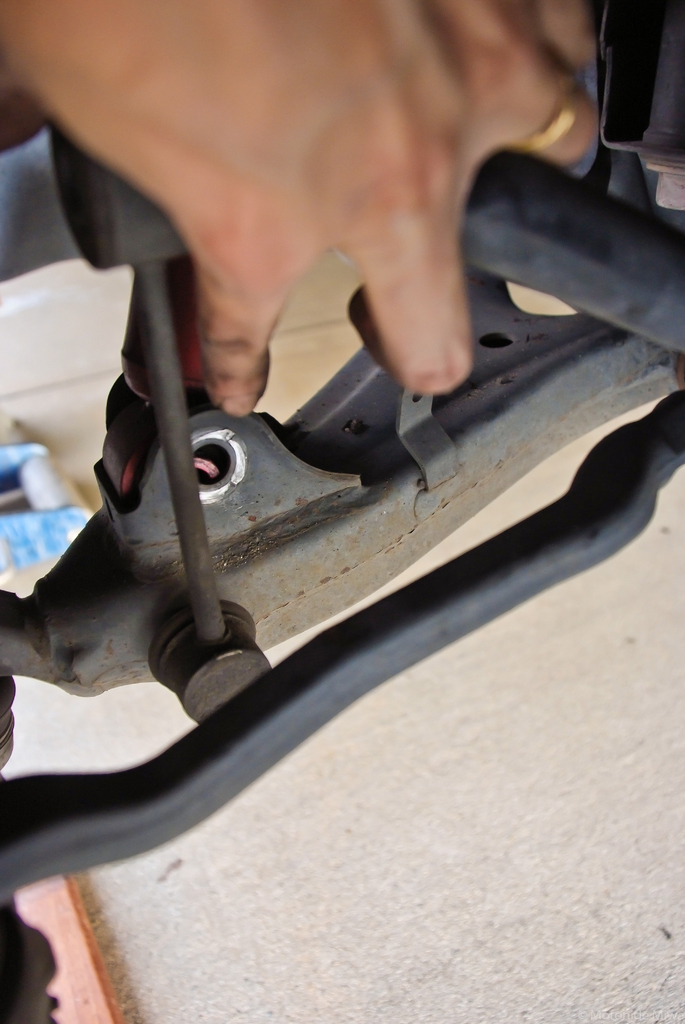Human_hand: (0, 0, 607, 424)
